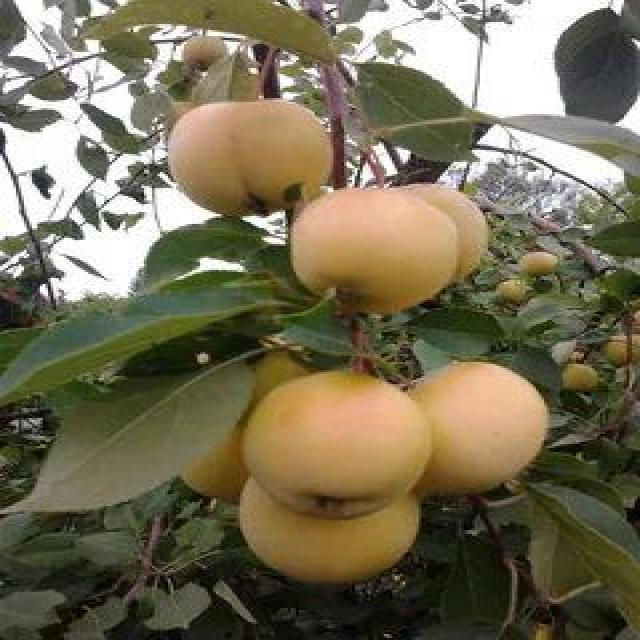Fresh Apple: (235, 370, 437, 510), (298, 204, 470, 318), (418, 368, 547, 494)
